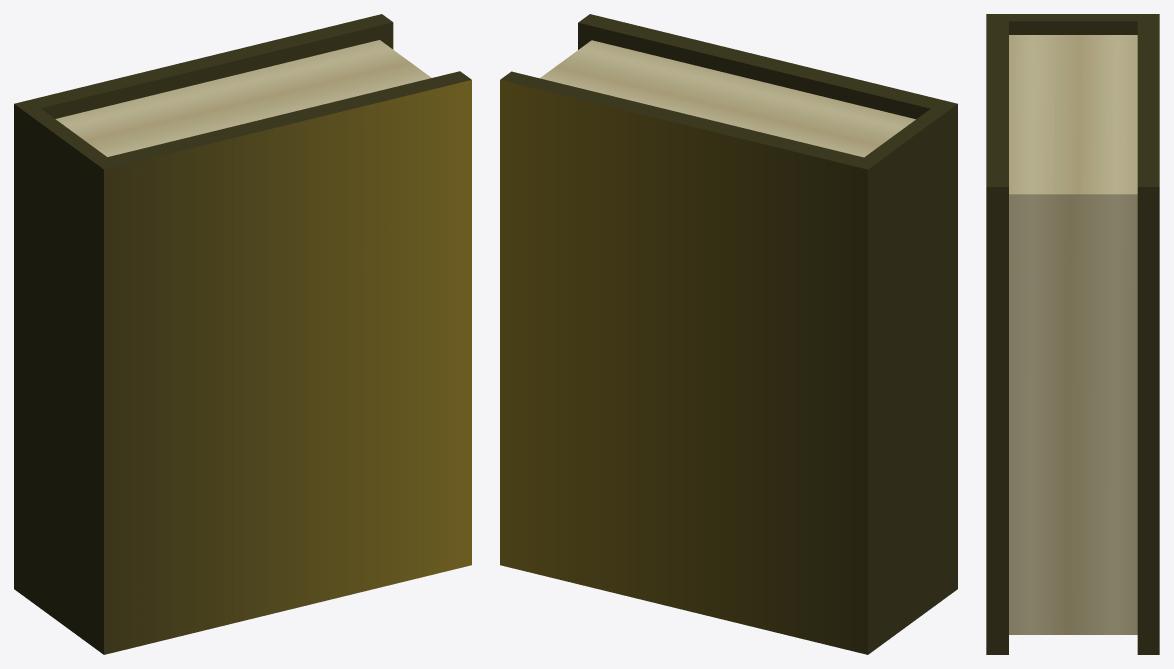
File: libro1contextura.fbx
3 views of the same model, side by side, from view 1: azimuth 30°, elevation 25°; view 2: azimuth 150°, elevation 25°; view 3: azimuth 270°, elevation 25° (orthographic). The views are drawn at different scales.
Parts seen in each view (by area): view 1: pCube1; view 2: pCube1; view 3: pCube1.
Boxes of the visible parts, x1,y1,x2,y2 form: pCube1: (14,14,471,654); pCube1: (500,14,957,654); pCube1: (986,14,1159,654).
Bounding box in the file's own units: 0.0284 × 0.0358 × 0.012.
Materials: 1 (1 with a texture image).
